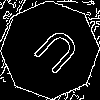U: (25, 25, 83, 84)
